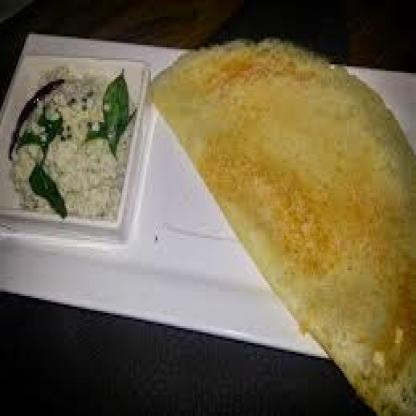dosa: (147, 38, 414, 416)
